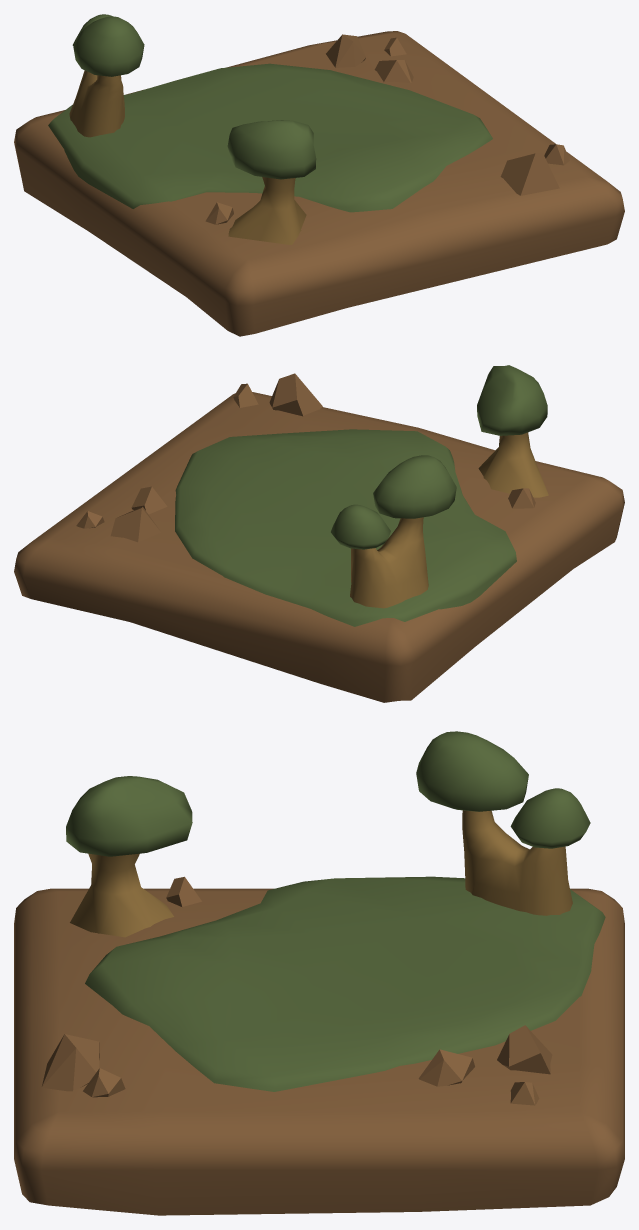
Rendered from Tile_1.fbx.
3 views of the same model, one above another, from view 1: azimuth 30°, elevation 25°; view 2: azimuth 150°, elevation 25°; view 3: azimuth 270°, elevation 25° (orthographic). The views are drawn at different scales.
Parts seen in each view (by area): view 1: Tile_1; view 2: Tile_1; view 3: Tile_1.
Part boxes in pixels (x1=…): Tile_1: x1=14, y1=14, x2=624, y2=336; Tile_1: x1=14, y1=365, x2=624, y2=702; Tile_1: x1=14, y1=731, x2=624, y2=1215.
Bounding box in the file's own units: 1 × 0.472 × 1.
